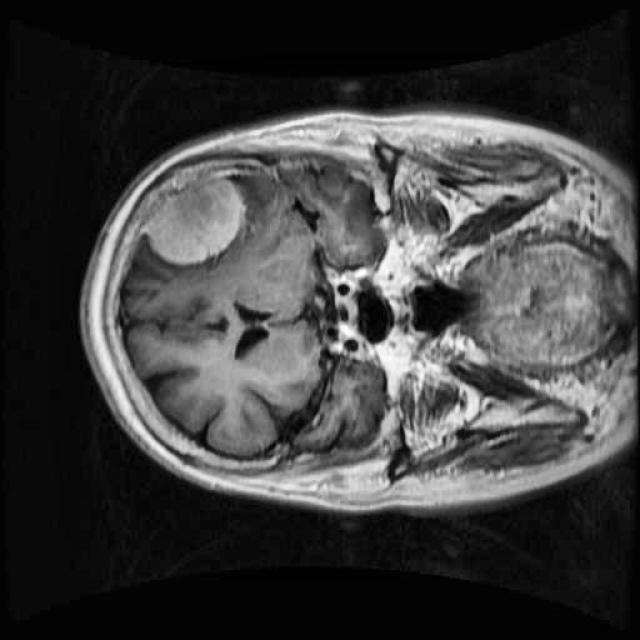Tumor: (121, 155, 260, 275)
